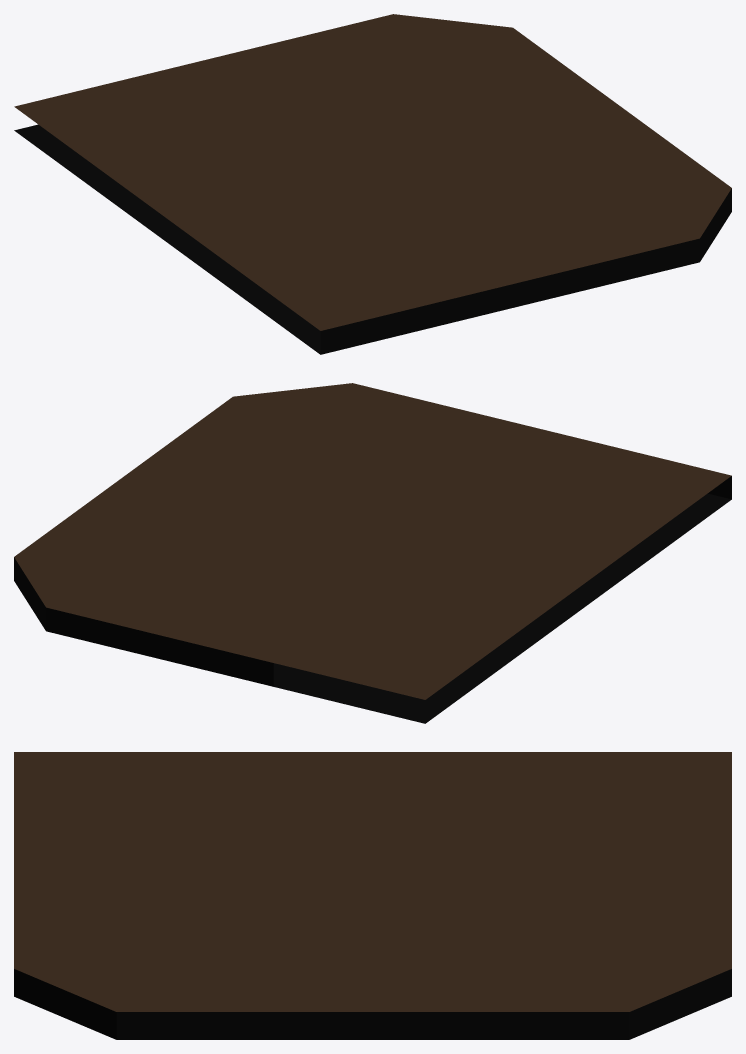
Rendered from SH_lvl1_Floor_00.fbx.
3 views of the same model, one above another, from view 1: azimuth 30°, elevation 25°; view 2: azimuth 150°, elevation 25°; view 3: azimuth 270°, elevation 25° (orthographic). The views are drawn at different scales.
Visible parts, largest first — view 1: Cube.127; view 2: Cube.127; view 3: Cube.127.
Part boxes in pixels (<box>): Cube.127: <box>14,14,731,354</box>; Cube.127: <box>14,383,731,723</box>; Cube.127: <box>14,752,731,1039</box>.
Bounding box in the file's own units: 7 × 6 × 0.3.
